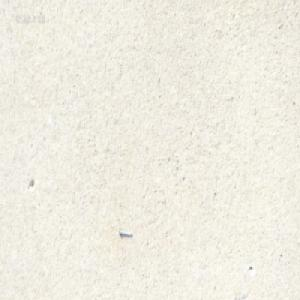Nail: (117, 227, 132, 236)
